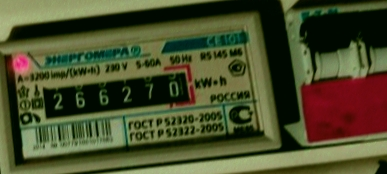0: (166, 77, 179, 98)
2: (49, 88, 66, 111), (119, 82, 134, 104)
6: (96, 85, 111, 105), (73, 88, 87, 109)
7: (142, 80, 156, 100)
screen: (28, 55, 206, 131)
